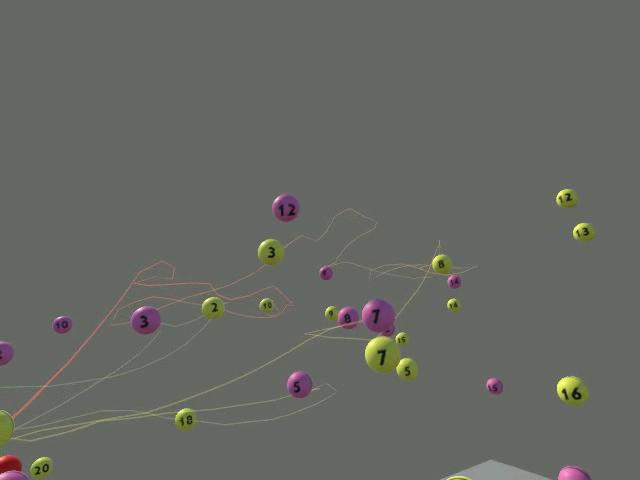ball_02_yellow: (201, 296, 224, 319)
ball_03_pink: (130, 305, 160, 334)
ball_03_yellow: (257, 238, 283, 265)
ball_05_pink: (286, 370, 312, 398)
ball_05_yellow: (395, 357, 417, 380)
ball_07_pink: (361, 298, 395, 332)
ball_07_yellow: (364, 335, 400, 373)
ball_08_pink: (337, 306, 359, 329)
ball_08_yellow: (431, 253, 451, 274)
ball_09_pink: (318, 265, 332, 280)
ball_09_yellow: (324, 305, 338, 321)
ball_10_pink: (51, 315, 72, 333)
ball_10_yellow: (258, 297, 273, 313)
ball_12_pink: (271, 193, 299, 221)
ball_12_yellow: (555, 188, 577, 208)
ball_13_yellow: (572, 222, 594, 241)
ball_14_pink: (447, 273, 461, 288)
ball_14_yellow: (446, 297, 459, 311)
ball_15_pink: (485, 377, 502, 394)
ball_18_yellow: (556, 375, 589, 405), (174, 407, 196, 429)
ball_20_yellow: (29, 456, 52, 477)
ball_unknown: (0, 409, 14, 447), (557, 465, 590, 479), (0, 340, 14, 365), (0, 469, 28, 479), (379, 323, 395, 337), (395, 331, 408, 345), (445, 475, 472, 479)
user_cursor: (0, 454, 22, 472)
